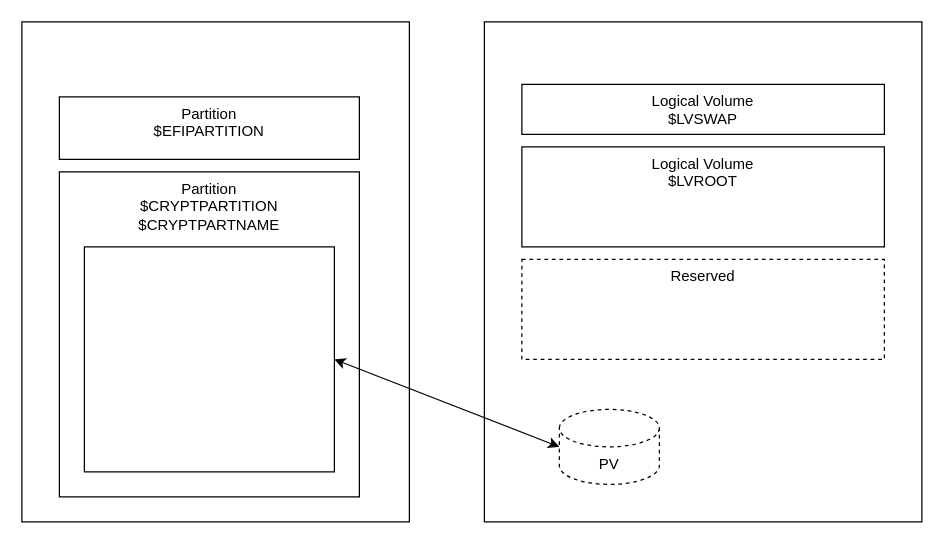
Image size: 944x544. Some labels were removed from this diagram. Each missing label, with the box of its shape:
Physical Drive: $DEV (GPT): (21, 21, 409, 522)
Physical Volume: (83, 246, 334, 472)
Volume Group $VGNAME: (483, 21, 922, 522)
